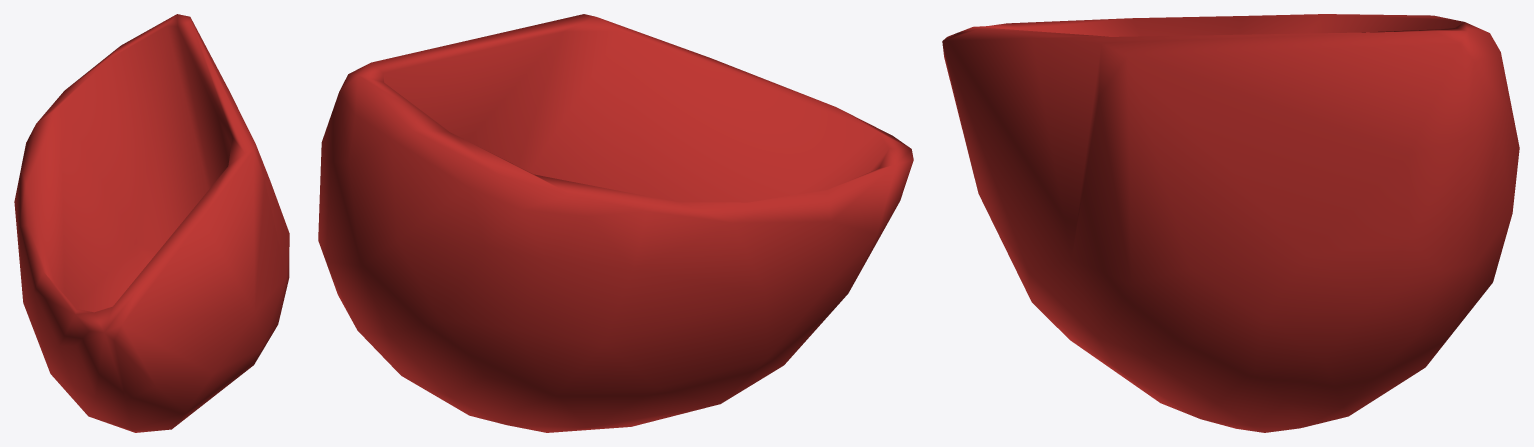
File: circulatorio-non-coronary-leaflet.glb
The picture shows the model from 3 angles, left to right: view 1: azimuth 30°, elevation 25°; view 2: azimuth 150°, elevation 25°; view 3: azimuth 270°, elevation 25°; orthographic projection. The views are drawn at different scales.
Visible parts, largest first — view 1: Non-coronary leaflet; view 2: Non-coronary leaflet; view 3: Non-coronary leaflet.
Boxes of the visible parts, box(x1,y1,x2,y2) form: Non-coronary leaflet: box(14, 14, 289, 432); Non-coronary leaflet: box(318, 14, 913, 432); Non-coronary leaflet: box(942, 14, 1519, 432).
Bounding box in the file's own units: 0.0172 × 0.0164 × 0.0191.
